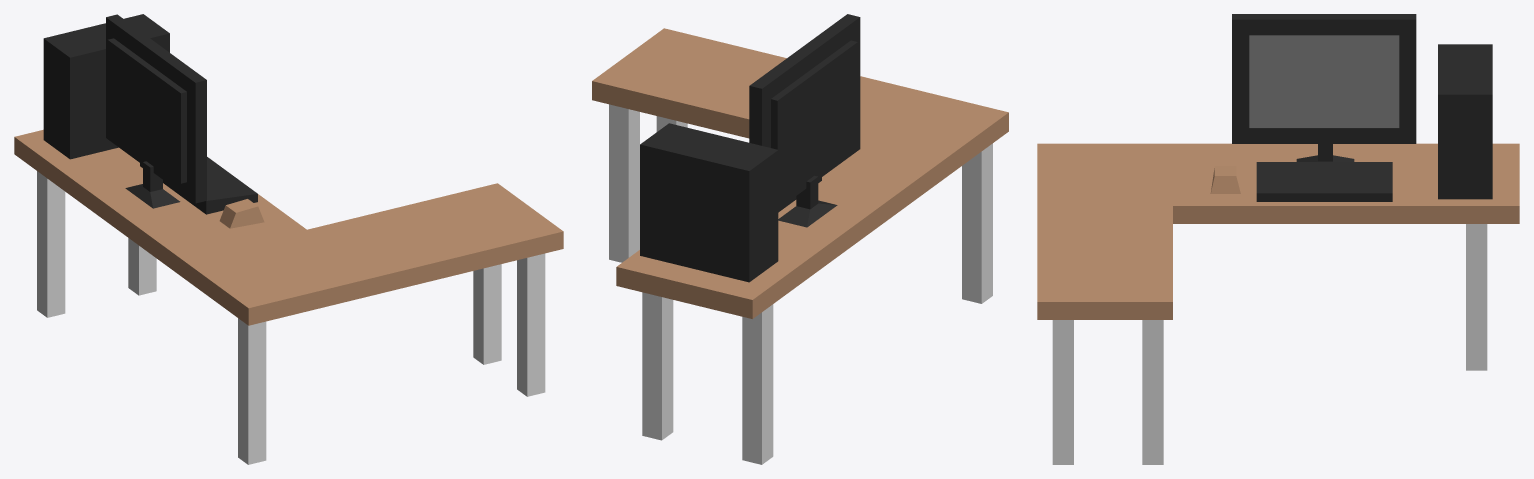
Rendered from LDesk.fbx.
3 renders of one model, left to right at view 1: azimuth 30°, elevation 25°; view 2: azimuth 150°, elevation 25°; view 3: azimuth 270°, elevation 25°, orthographic. The views are drawn at different scales.
Parts seen in each view (by area): view 1: desktop, MonitorO, PC, leg, leg.003, leg.001, leg.004, keyboard, leg.002, Stand, Cube; view 2: desktop, PC, MonitorO, leg.001, leg.004, leg, leg.002, Stand; view 3: desktop, Screen, MonitorO, PC, keyboard, leg.002, leg.003, leg.004, Cube, Stand.
Part boxes in pixels (x1=…): desktop: x1=14, y1=129, x2=563, y2=325; MonitorO: x1=106, y1=14, x2=206, y2=203; PC: x1=43, y1=14, x2=169, y2=159; leg: x1=238, y1=318, x2=266, y2=464; leg.003: x1=517, y1=253, x2=545, y2=396; leg.001: x1=37, y1=171, x2=65, y2=317; leg.004: x1=473, y1=264, x2=501, y2=364; keyboard: x1=140, y1=157, x2=257, y2=214; leg.002: x1=128, y1=238, x2=156, y2=295; Stand: x1=125, y1=161, x2=180, y2=208; Cube: x1=219, y1=199, x2=264, y2=228; desktop: x1=592, y1=28, x2=1008, y2=318; PC: x1=640, y1=123, x2=778, y2=282; MonitorO: x1=749, y1=14, x2=860, y2=208; leg.001: x1=742, y1=304, x2=773, y2=464; leg.004: x1=609, y1=104, x2=639, y2=262; leg: x1=962, y1=143, x2=992, y2=303; leg.002: x1=642, y1=292, x2=673, y2=440; Stand: x1=778, y1=175, x2=837, y2=227; desktop: x1=1037, y1=143, x2=1519, y2=319; Screen: x1=1249, y1=35, x2=1399, y2=127; MonitorO: x1=1232, y1=14, x2=1416, y2=143; PC: x1=1438, y1=44, x2=1492, y2=199; keyboard: x1=1256, y1=162, x2=1392, y2=201; leg.002: x1=1466, y1=224, x2=1487, y2=370; leg.003: x1=1052, y1=320, x2=1073, y2=464; leg.004: x1=1142, y1=320, x2=1163, y2=464; Cube: x1=1210, y1=166, x2=1240, y2=193; Stand: x1=1296, y1=144, x2=1354, y2=161.
Bounding box in the file's own units: 546 × 514 × 703.
